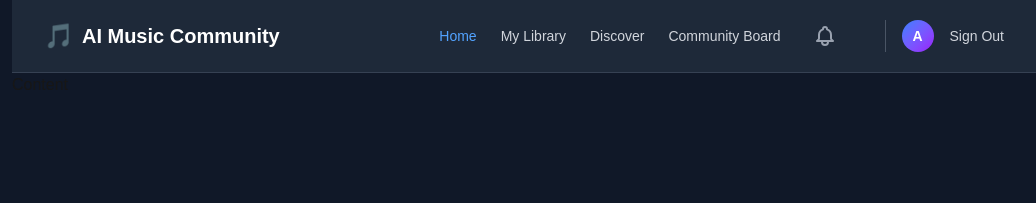
Test: Admin Navigation Integration › Admin Link Styling › should display shield icon for admin link
The image size is (1036, 203).
Open avatar dropdown
Click the button named "User menu" at x=918, y=36, box [902, 20, 934, 52]
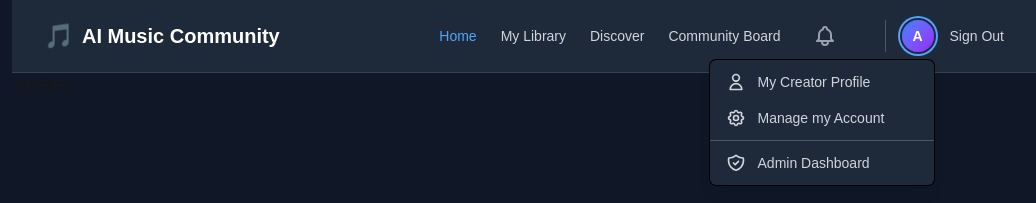
Check: the menu item "Admin Dashboard" is shown, box [710, 145, 934, 181]
Check: the 4th icon is shown, box [726, 153, 746, 173]
